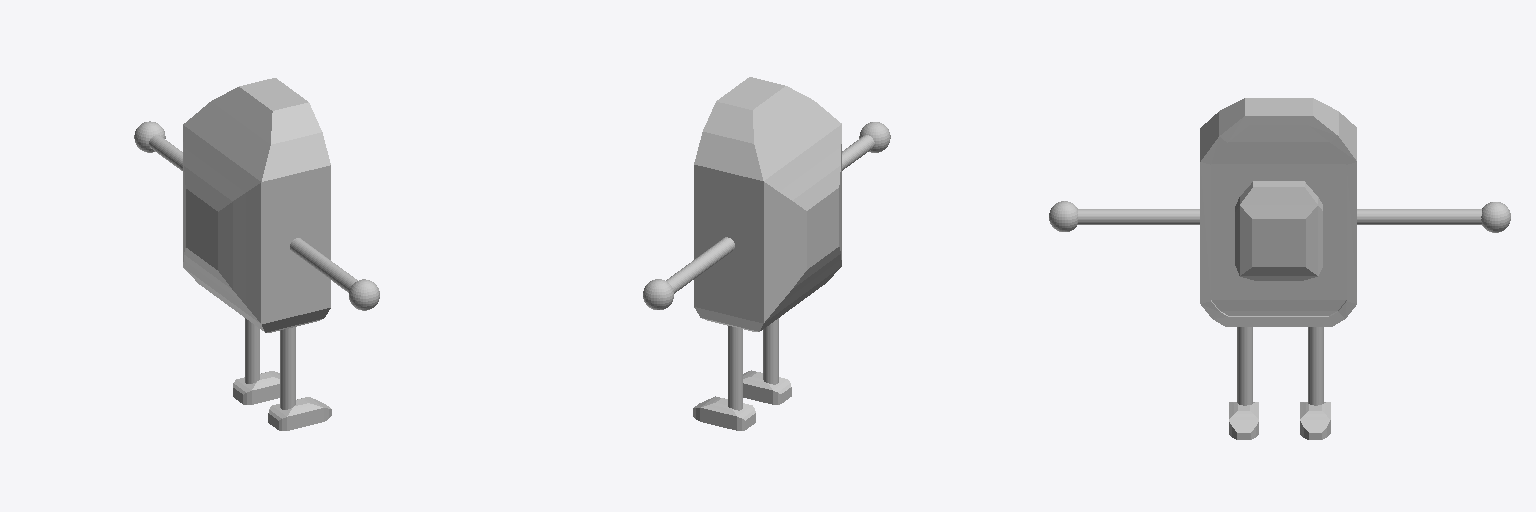
Rendered from aguacate.obj.
The picture shows the model from 3 angles: view 1: azimuth 30°, elevation 25°; view 2: azimuth 150°, elevation 25°; view 3: azimuth 270°, elevation 25°; orthographic projection.
Parts seen in each view (by area): view 1: Cubo, Cubo.002_Cubo.003, Cilindro.002, Cilindro.001, Cubo.001_Cubo.004, Cilindro.003, Esfera.001_Esfera.002, Cilindro, Esfera_Esfera.001; view 2: Cubo, Cubo.001_Cubo.004, Cilindro.003, Cilindro, Cubo.002_Cubo.003, Cilindro.002, Esfera_Esfera.001, Esfera.001_Esfera.002, Cilindro.001; view 3: Cubo, hueso_Cubo.002, Cilindro, Cilindro.001, Cilindro.002, Cilindro.003, Cubo.001_Cubo.004, Cubo.002_Cubo.003, Esfera_Esfera.001, Esfera.001_Esfera.002.
Boxes of the visible parts, box(x1,y1,x2,y2) form: Cubo: box(183, 78, 330, 332); Cubo.002_Cubo.003: box(268, 397, 331, 430); Cilindro.002: box(280, 327, 295, 409); Cilindro.001: box(290, 238, 357, 292); Cubo.001_Cubo.004: box(233, 371, 279, 404); Cilindro.003: box(245, 318, 259, 383); Esfera.001_Esfera.002: box(349, 279, 379, 310); Cilindro: box(149, 135, 182, 170); Esfera_Esfera.001: box(134, 121, 165, 152); Cubo: box(694, 77, 841, 331); Cubo.001_Cubo.004: box(693, 396, 755, 430); Cilindro.003: box(728, 326, 742, 410); Cilindro: box(666, 237, 734, 293); Cubo.002_Cubo.003: box(743, 370, 791, 404); Cilindro.002: box(763, 318, 778, 384); Esfera_Esfera.001: box(643, 279, 673, 309); Esfera.001_Esfera.002: box(859, 122, 890, 152); Cilindro.001: box(842, 135, 874, 170); Cubo: box(1200, 98, 1356, 326); hueso_Cubo.002: box(1235, 181, 1322, 280); Cilindro: box(1357, 209, 1481, 224); Cilindro.001: box(1078, 209, 1199, 224); Cilindro.002: box(1237, 327, 1252, 405); Cilindro.003: box(1308, 327, 1323, 405); Cubo.001_Cubo.004: box(1300, 402, 1330, 439); Cubo.002_Cubo.003: box(1229, 402, 1258, 439); Esfera_Esfera.001: box(1481, 202, 1510, 232); Esfera.001_Esfera.002: box(1049, 201, 1077, 231).
Bounding box in the file's own units: 1.6 × 4.44 × 5.89.